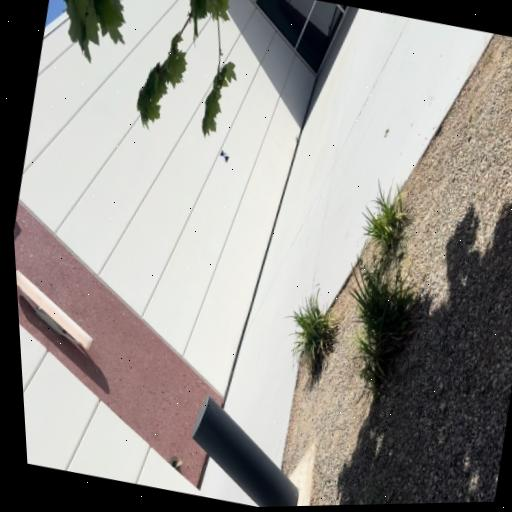target4: (219, 149, 229, 163)
